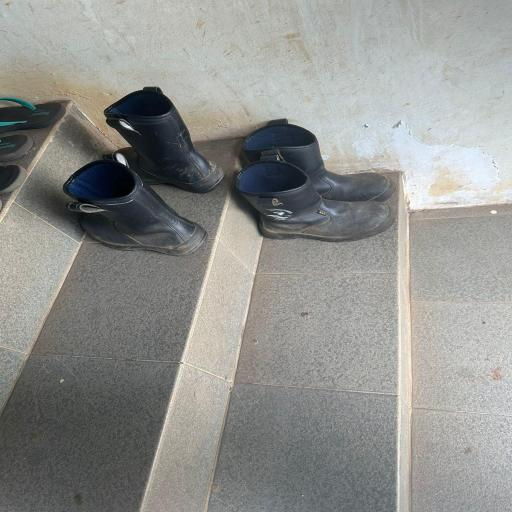safety_shoe: (50, 152, 217, 267), (235, 111, 413, 199), (219, 163, 402, 244), (92, 94, 231, 194)
